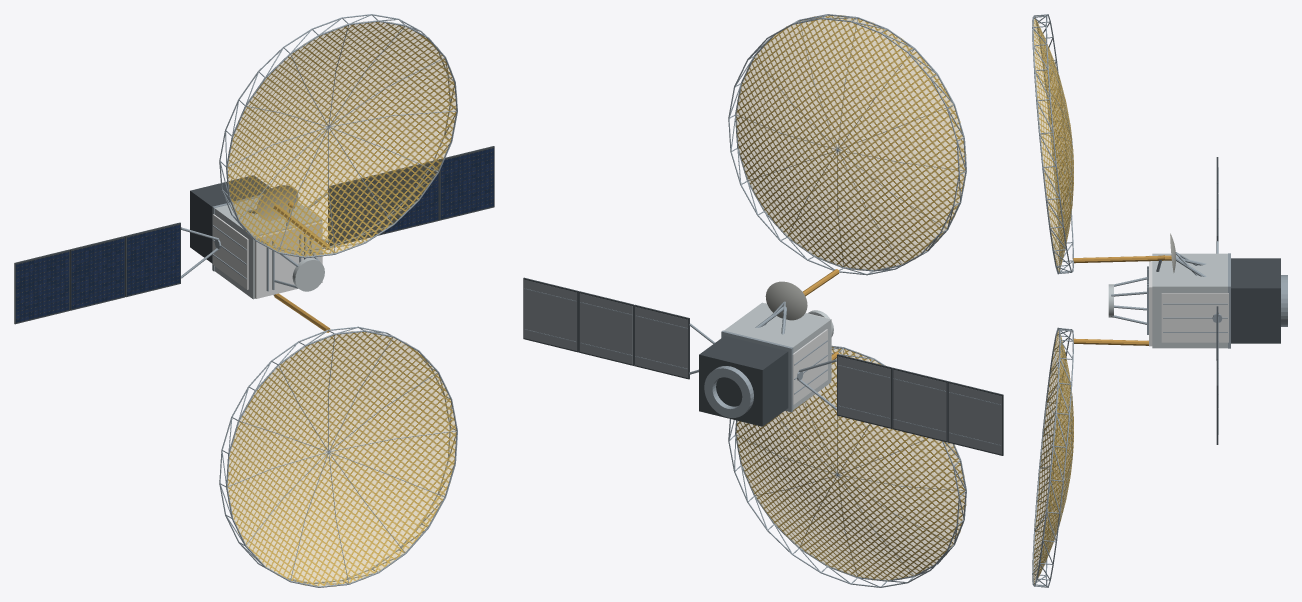
Rendered from ref-a2100axx-26089.glb.
The picture shows the model from 3 angles, left to right: view 1: azimuth 30°, elevation 25°; view 2: azimuth 150°, elevation 25°; view 3: azimuth 270°, elevation 25°; orthographic projection. The views are drawn at different scales.
Visible parts, largest first — view 1: Deployable mesh reflector (×2), Solar cell panel (×6), Earth-facing deck, Service module, Payload module, Radiator face, Antenna tower platform, Communications reflector; view 2: Deployable mesh reflector (×2), Rear array substrate (×6), Service module, Payload module, Radiator face, Launch adapter ring, Communications reflector, Module interface; view 3: Deployable mesh reflector (×2), Service module, Payload module, Radiator face, Reflector deployment boom (×2), Launch adapter ring, Earth-facing deck.
Part boxes in pixels (x1,y1,x2,y2): Deployable mesh reflector (×2): (227, 21, 457, 586); Solar cell panel (×6): (16, 148, 493, 322); Earth-facing deck: (254, 221, 322, 298); Service module: (190, 175, 271, 263); Payload module: (214, 197, 322, 299); Radiator face: (212, 214, 248, 289); Antenna tower platform: (292, 258, 324, 291); Communications reflector: (256, 185, 298, 220); Deployable mesh reflector (×2): (736, 15, 966, 580); Rear array substrate (×6): (524, 279, 1001, 454); Service module: (699, 336, 788, 426); Payload module: (724, 302, 831, 409); Radiator face: (792, 329, 827, 404); Launch adapter ring: (704, 366, 753, 417); Communications reflector: (765, 281, 807, 320); Module interface: (721, 330, 793, 412); Deployable mesh reflector (×2): (1033, 18, 1073, 584); Service module: (1231, 258, 1280, 343); Payload module: (1152, 253, 1227, 348); Radiator face: (1161, 293, 1228, 342); Reflector deployment boom (×2): (1073, 255, 1171, 345); Launch adapter ring: (1281, 275, 1287, 326); Earth-facing deck: (1149, 255, 1152, 346).
Bounding box in the file's own units: 24.97 × 28.04 × 11.81.
9 materials, 2 textured.
